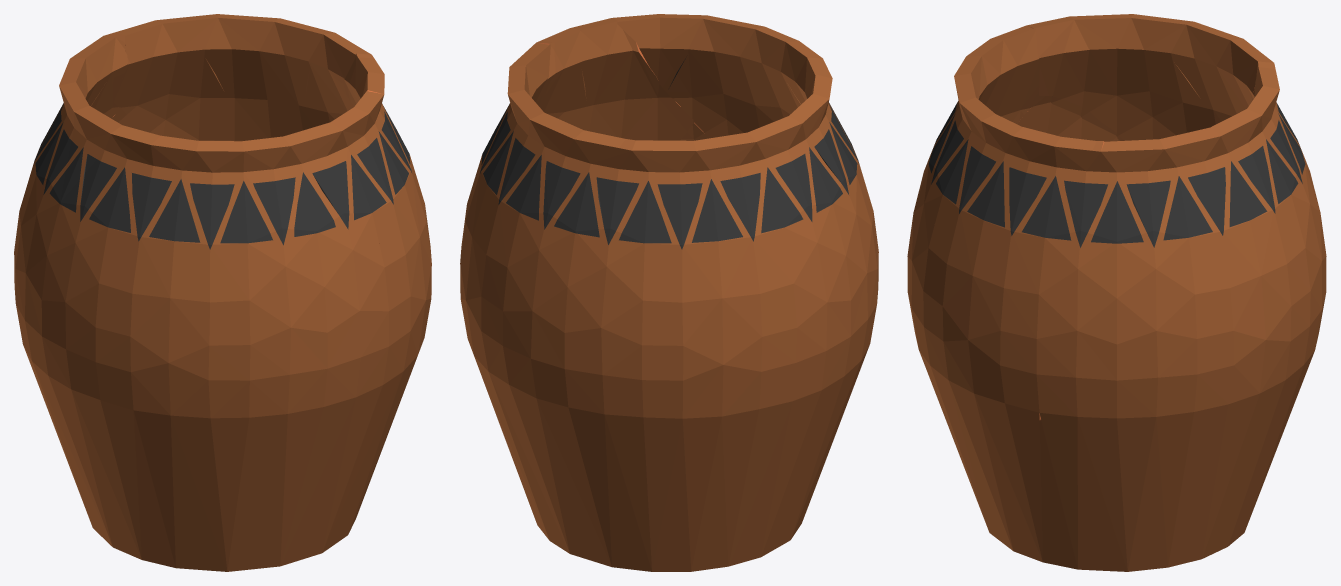
Rendered from Pottery 17_1b.fbx.
3 views of the same model, side by side, from view 1: azimuth 30°, elevation 25°; view 2: azimuth 150°, elevation 25°; view 3: azimuth 270°, elevation 25° (orthographic).
Parts seen in each view (by area): view 1: Pottery 17_1b.005, Pottery 17_1b.008, Pottery 17_1b.001, Pottery 17_1b.004, Pottery 17_1b.002, Pottery 17_1b, Pottery 17_1b.007, Pottery 17_1b.003; view 2: Pottery 17_1b, Pottery 17_1b.002, Pottery 17_1b.006, Pottery 17_1b.001, Pottery 17_1b.005, Pottery 17_1b.003, Pottery 17_1b.008; view 3: Pottery 17_1b.003, Pottery 17_1b.001, Pottery 17_1b.007, Pottery 17_1b, Pottery 17_1b.002, Pottery 17_1b.005, Pottery 17_1b.006, Pottery 17_1b.008.
Boxes of the visible parts, x1,y1,x2,y2 form: Pottery 17_1b.005: (121,91,384,361); Pottery 17_1b.008: (30,216,249,474); Pottery 17_1b.001: (114,14,371,141); Pottery 17_1b.004: (122,360,357,548); Pottery 17_1b.002: (15,32,159,268); Pottery 17_1b: (14,244,373,571); Pottery 17_1b.007: (271,244,417,484); Pottery 17_1b.003: (344,53,431,354); Pottery 17_1b: (464,290,839,571); Pottery 17_1b.002: (596,74,856,338); Pottery 17_1b.006: (463,232,740,480); Pottery 17_1b.001: (460,42,625,314); Pottery 17_1b.005: (612,14,862,174); Pottery 17_1b.003: (536,18,693,140); Pottery 17_1b.008: (831,159,878,425); Pottery 17_1b.003: (934,127,1134,424); Pottery 17_1b.001: (1101,67,1314,397); Pottery 17_1b.007: (907,225,1221,515); Pottery 17_1b: (971,384,1280,571); Pottery 17_1b.002: (1026,14,1303,154); Pottery 17_1b.005: (908,25,1045,248); Pottery 17_1b.006: (1231,152,1326,444); Pottery 17_1b.008: (1018,96,1119,141).
Bounding box in the file's own units: 72.32 × 83.1 × 72.32.
